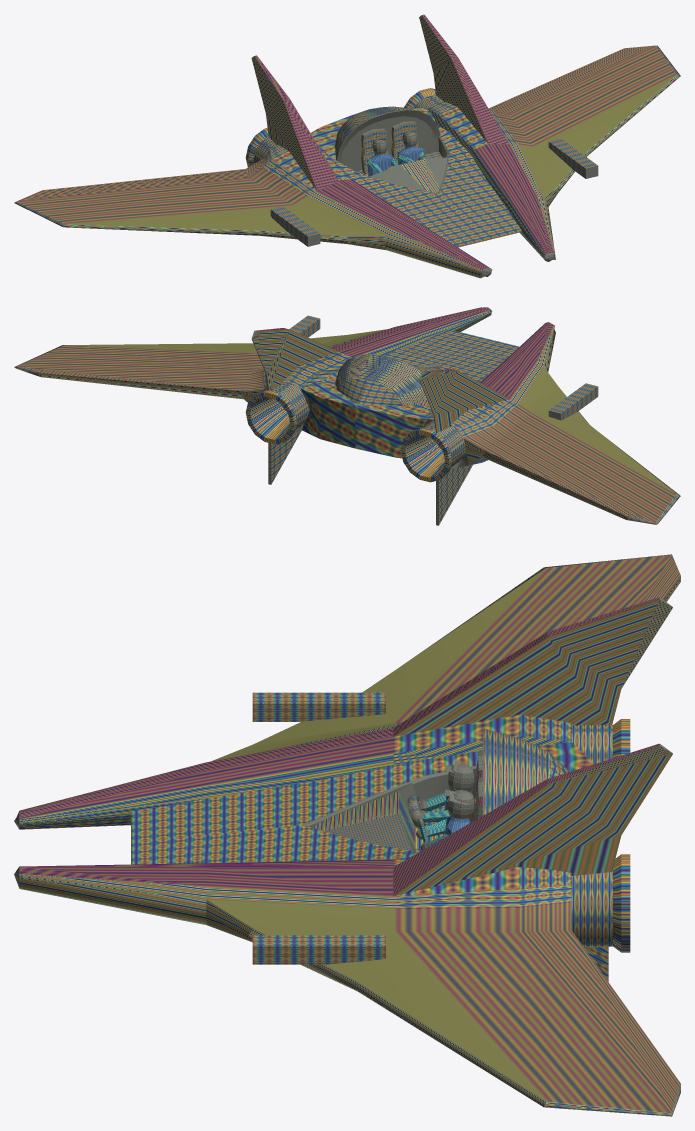
The model's file is spaceship_02.fbx.
The picture shows the model from 3 angles, top to bottom: view 1: azimuth 30°, elevation 25°; view 2: azimuth 150°, elevation 25°; view 3: azimuth 270°, elevation 25°; orthographic projection. The views are drawn at different scales.
Visible parts, largest first — view 1: polySurface2, pasted__polySurface2, polySurface8, pCube2, pasted__pCube2, polySurface7, polySurface6, pCube6, pasted__pCube6, pasted__pCylinder1, pCube3, pasted__pCube3 (+3 smaller); view 2: polySurface2, pasted__polySurface2, polySurface8, pCube2, polySurface7, pasted__pCube2, pasted__pasted__pCylinder1, pasted__pCylinder1, pCube6, pasted__pCube6; view 3: pasted__polySurface2, polySurface2, polySurface8, pasted__pCube2, pCube2, pasted__pasted__pCylinder1, polySurface7, polySurface6, pasted__pCube6, pCube6, pasted__pCylinder1, pasted__pSphere1.
Part boxes in pixels (left/top/right/bottom): polySurface2: left=14, top=144, right=492, bottom=278; pasted__polySurface2: left=427, top=45, right=680, bottom=261; polySurface8: left=310, top=108, right=521, bottom=247; pCube2: left=251, top=55, right=338, bottom=191; pasted__pCube2: left=419, top=14, right=509, bottom=144; polySurface7: left=335, top=106, right=440, bottom=193; polySurface6: left=356, top=152, right=447, bottom=193; pCube6: left=270, top=206, right=320, bottom=246; pasted__pCube6: left=548, top=138, right=598, bottom=178; pasted__pCylinder1: left=245, top=128, right=275, bottom=167; pCube3: left=361, top=128, right=388, bottom=173; pasted__pCube3: left=391, top=121, right=418, bottom=163; polySurface2: left=423, top=322, right=680, bottom=524; pasted__polySurface2: left=14, top=307, right=492, bottom=432; polySurface8: left=300, top=330, right=519, bottom=458; pCube2: left=419, top=369, right=509, bottom=525; polySurface7: left=335, top=354, right=429, bottom=405; pasted__pCube2: left=251, top=328, right=338, bottom=484; pasted__pasted__pCylinder1: left=245, top=382, right=310, bottom=444; pasted__pCylinder1: left=400, top=420, right=465, bottom=482; pCube6: left=548, top=383, right=598, bottom=420; pasted__pCube6: left=289, top=315, right=320, bottom=337; pasted__polySurface2: left=14, top=857, right=680, bottom=1116; polySurface2: left=14, top=554, right=680, bottom=829; polySurface8: left=131, top=742, right=592, bottom=864; pasted__pCube2: left=393, top=743, right=672, bottom=981; pCube2: left=393, top=597, right=672, bottom=736; pasted__pasted__pCylinder1: left=571, top=854, right=630, bottom=952; polySurface7: left=482, top=728, right=569, bottom=815; polySurface6: left=314, top=783, right=445, bottom=852; pasted__pCube6: left=252, top=935, right=385, bottom=964; pCube6: left=252, top=692, right=385, bottom=721; pasted__pCylinder1: left=571, top=719, right=630, bottom=764; pasted__pSphere1: left=444, top=790, right=474, bottom=834.
Bounding box in the file's own units: 94.33 × 22.95 × 47.29.
1 material, 1 textured.
